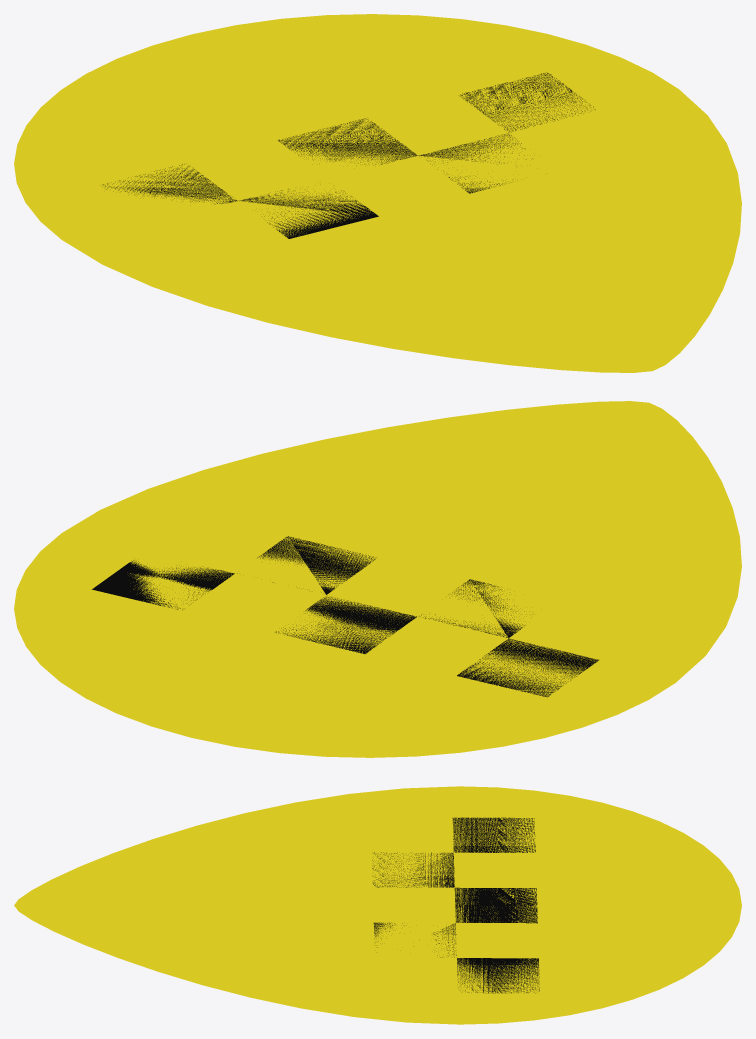
File: taxi.glb
3 views of the same model, one above another, from view 1: azimuth 30°, elevation 25°; view 2: azimuth 150°, elevation 25°; view 3: azimuth 270°, elevation 25° (orthographic). The views are drawn at different scales.
Parts seen in each view (by area): view 1: Curve, Curve.001, Curve.002; view 2: Curve, Curve.001, Curve.002; view 3: Curve, Curve.001, Curve.002.
Boxes of the visible parts, x1,y1,x2,y2 form: Curve: (14,14,741,372); Curve.001: (103,118,532,238); Curve.002: (460,72,595,132); Curve: (14,401,741,757); Curve.001: (237,536,598,697); Curve.002: (92,560,234,610); Curve: (14,786,741,1024); Curve.001: (372,817,537,957); Curve.002: (457,958,539,993).
Bounding box in the file's own units: 0.0169 × 0 × 0.0219.
